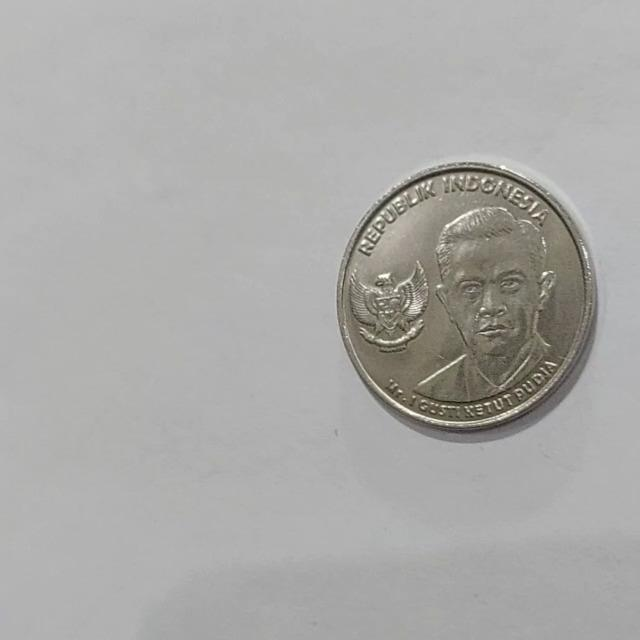Rp100: (336, 159, 597, 435), (407, 203, 562, 407)
